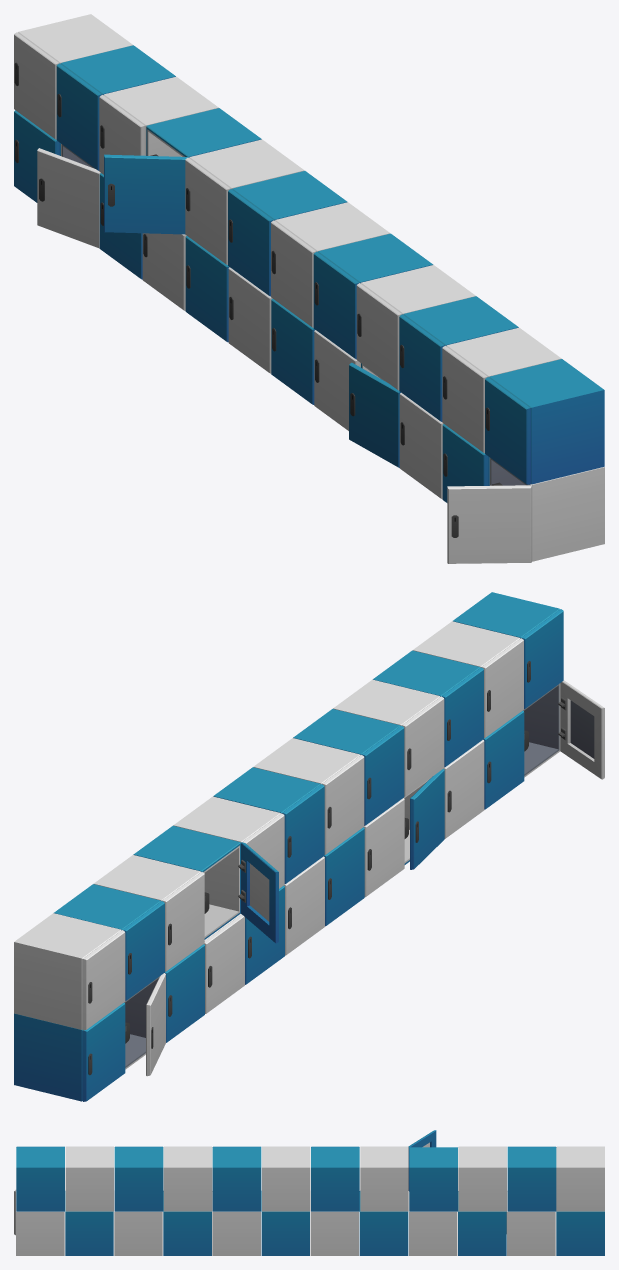
The model's file is CR_LockerB_003_all.fbx.
3 views of the same model, one above another, from view 1: azimuth 30°, elevation 25°; view 2: azimuth 150°, elevation 25°; view 3: azimuth 270°, elevation 25° (orthographic). The views are drawn at different scales.
Visible parts, largest first — view 1: CR_LockerB_003_all; view 2: CR_LockerB_003_all; view 3: CR_LockerB_003_all.
Part boxes in pixels (x1=…): CR_LockerB_003_all: x1=14, y1=14, x2=604, y2=563; CR_LockerB_003_all: x1=14, y1=592, x2=604, y2=1101; CR_LockerB_003_all: x1=14, y1=1130, x2=604, y2=1255.
Size of the model in its own units: 75.62 by 80.1 by 487.
